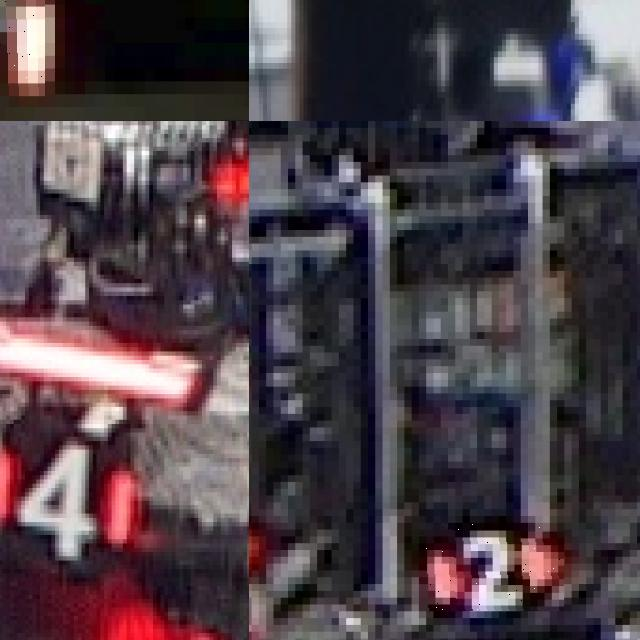R2: (419, 523, 564, 611)
R4: (0, 428, 145, 547)
Rs: (0, 0, 45, 107)
